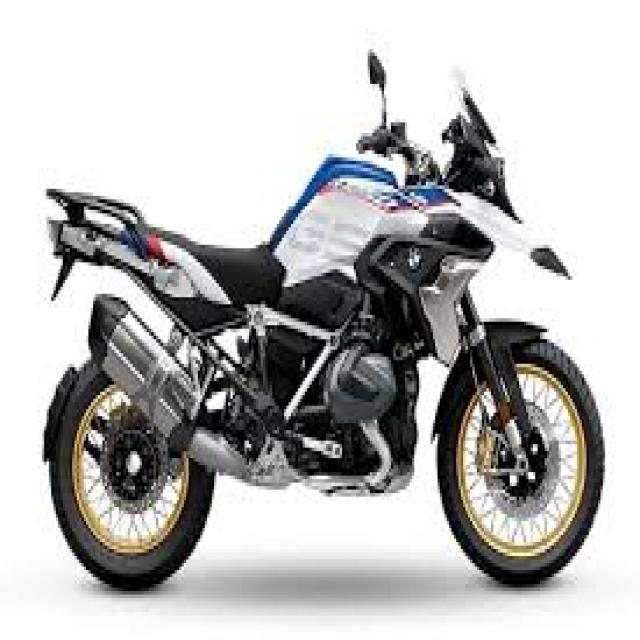Bike: (43, 50, 606, 592)
